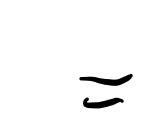eqv: (80, 73, 133, 109)
